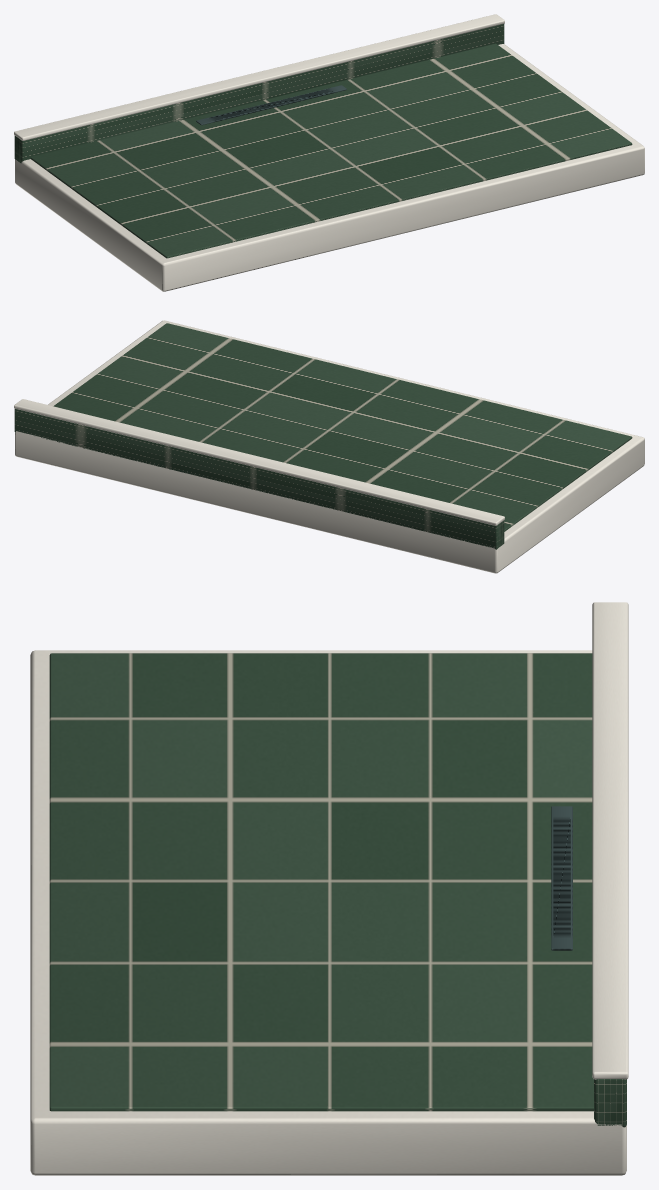
The model's file is TileBath.fbx.
The picture shows the model from 3 angles, top to bottom: view 1: azimuth 30°, elevation 25°; view 2: azimuth 150°, elevation 25°; view 3: azimuth 270°, elevation 25°; orthographic projection. The views are drawn at different scales.
Visible parts, largest first — view 1: TileBath_Mesh; view 2: TileBath_Mesh; view 3: TileBath_Mesh.
Part boxes in pixels (x1=…): TileBath_Mesh: x1=14, y1=14, x2=644, y2=291; TileBath_Mesh: x1=14, y1=320, x2=644, y2=573; TileBath_Mesh: x1=30, y1=602, x2=628, y2=1175.
Size of the model in its own units: 1.29 by 0.134 by 0.692.
1 material, 1 textured.
